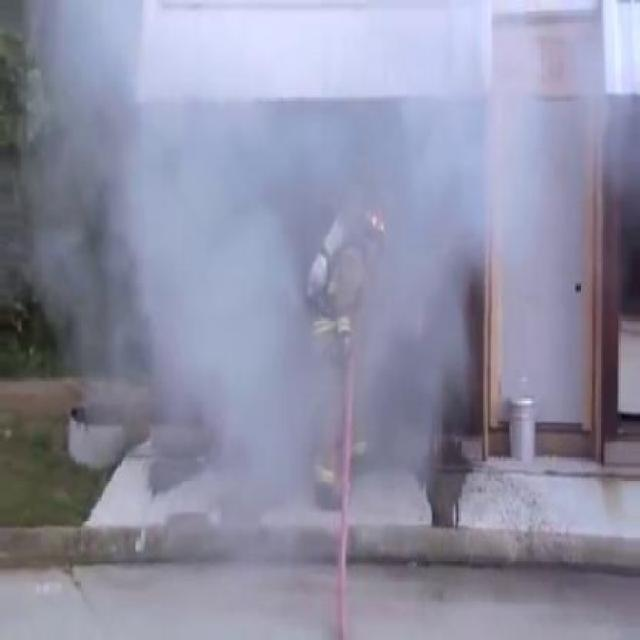smoke: (51, 4, 536, 490)
